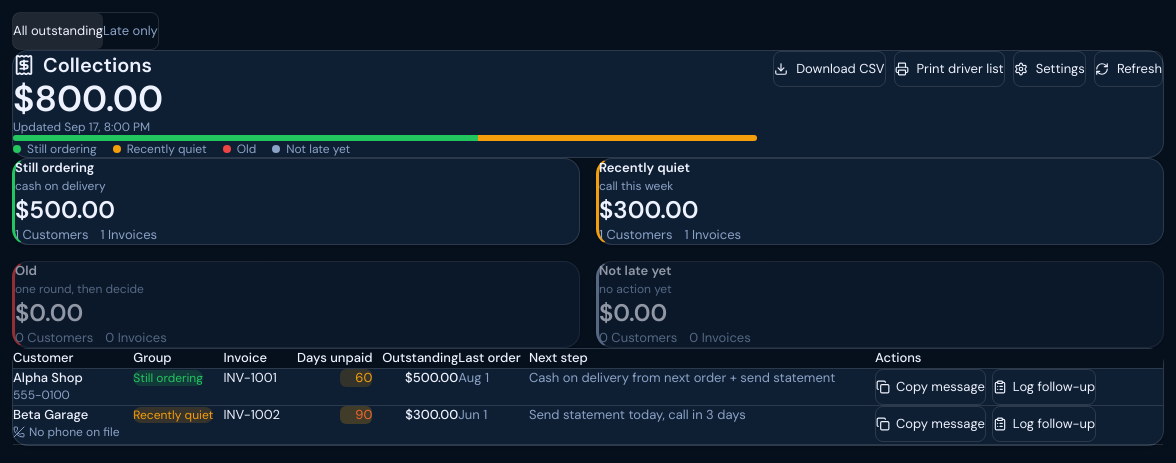
Test: Collections page › copy message writes statement_message to the clipboard
Click the button "Copy message" in the row of "Alpha Shop". click: click(930, 387)
box: [875,369,986,405]
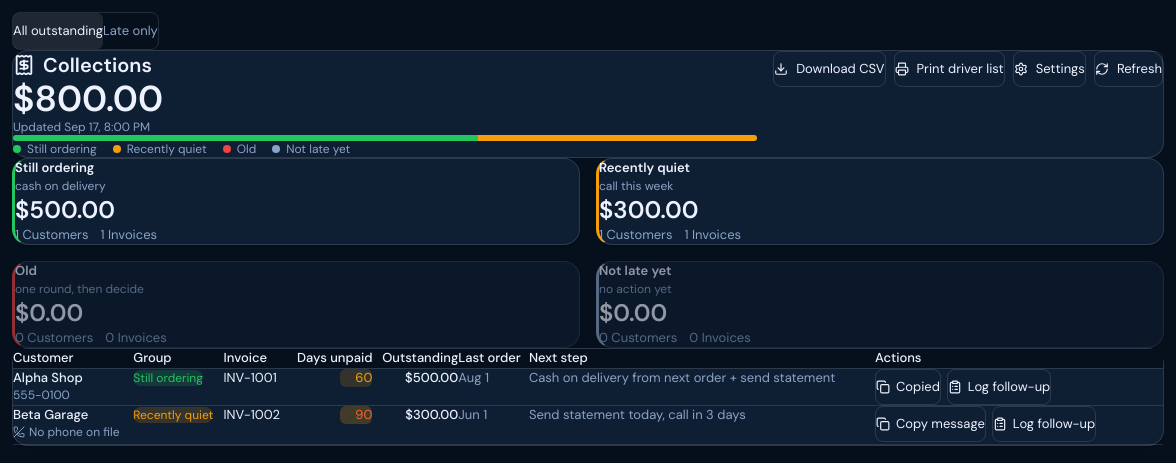
expect the text "Copied" is shown: met, box [875,369,941,405]
